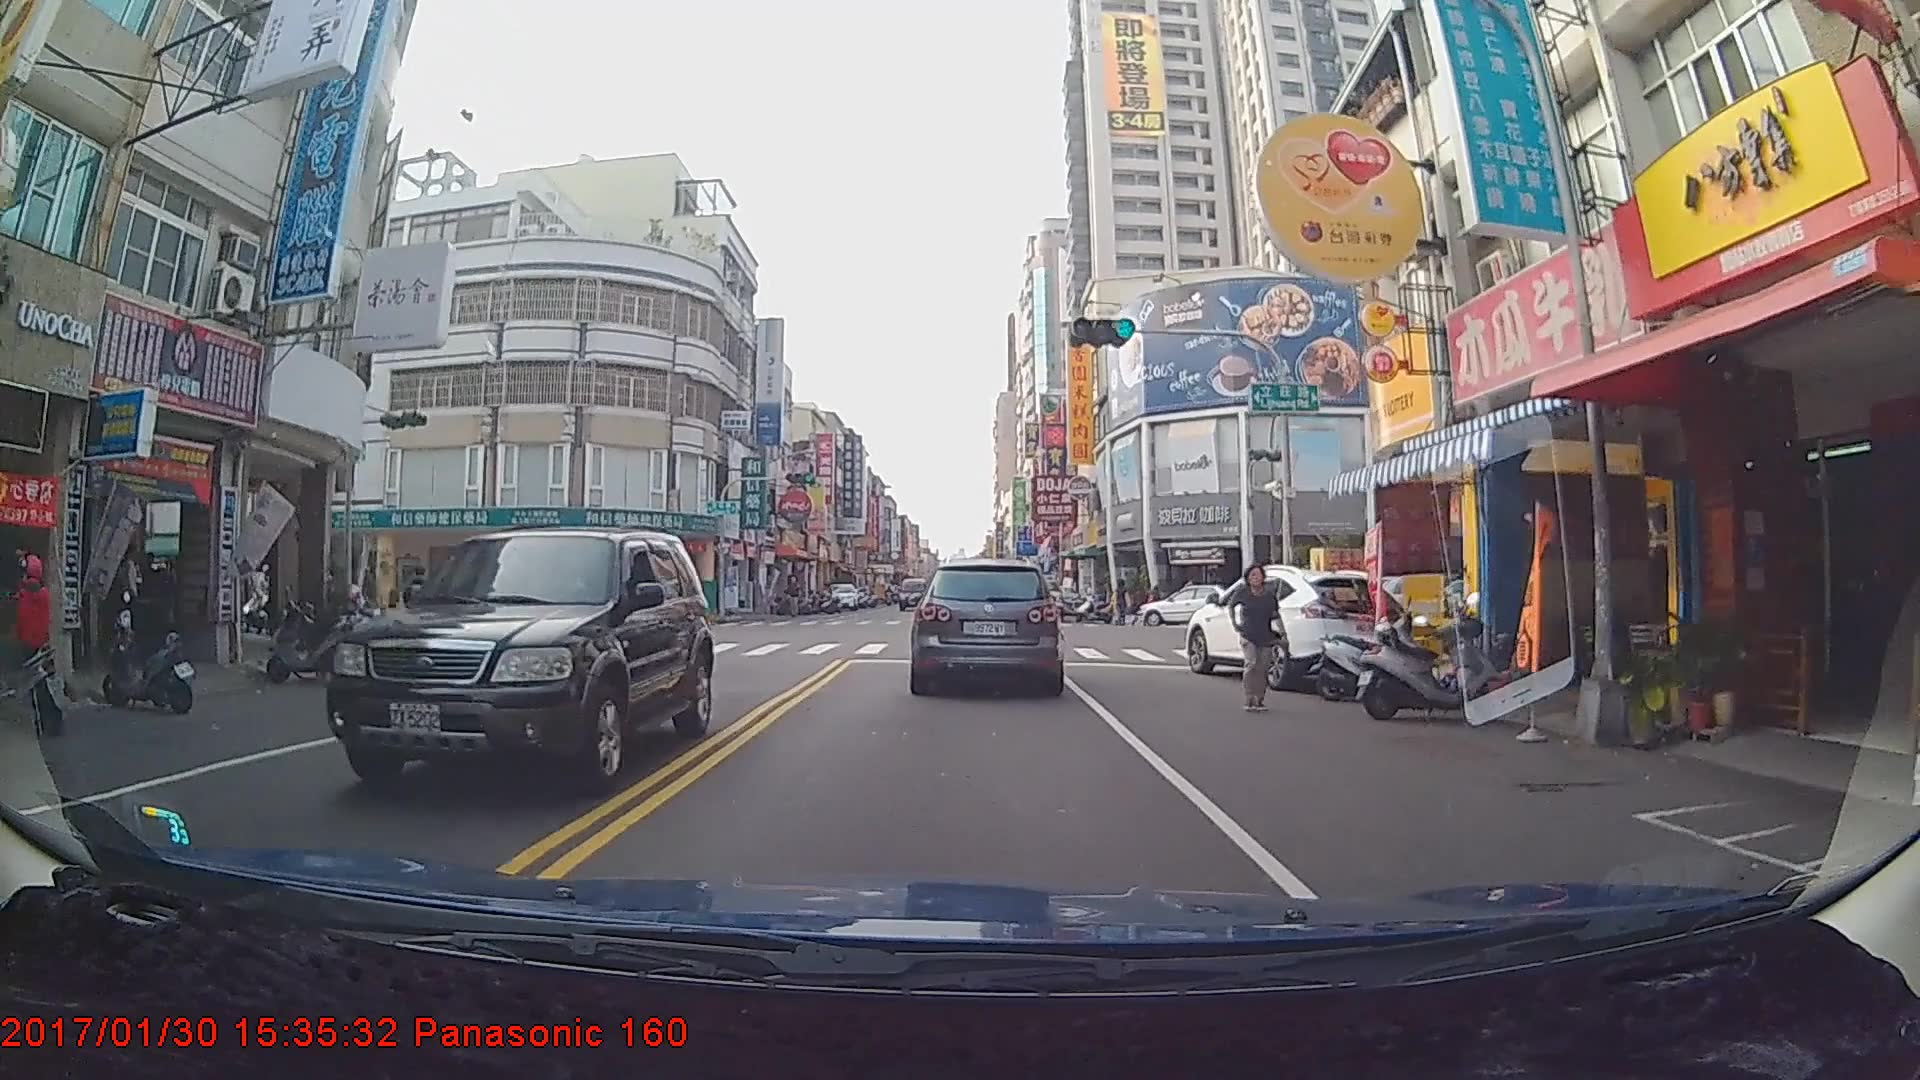pedestrian: (1234, 564, 1291, 719), (407, 567, 438, 650)
rider: (0, 554, 70, 740)
vehicle: (322, 525, 714, 794), (1184, 561, 1415, 688), (913, 557, 1060, 695), (1132, 582, 1256, 624), (822, 581, 860, 610), (896, 578, 929, 611)
